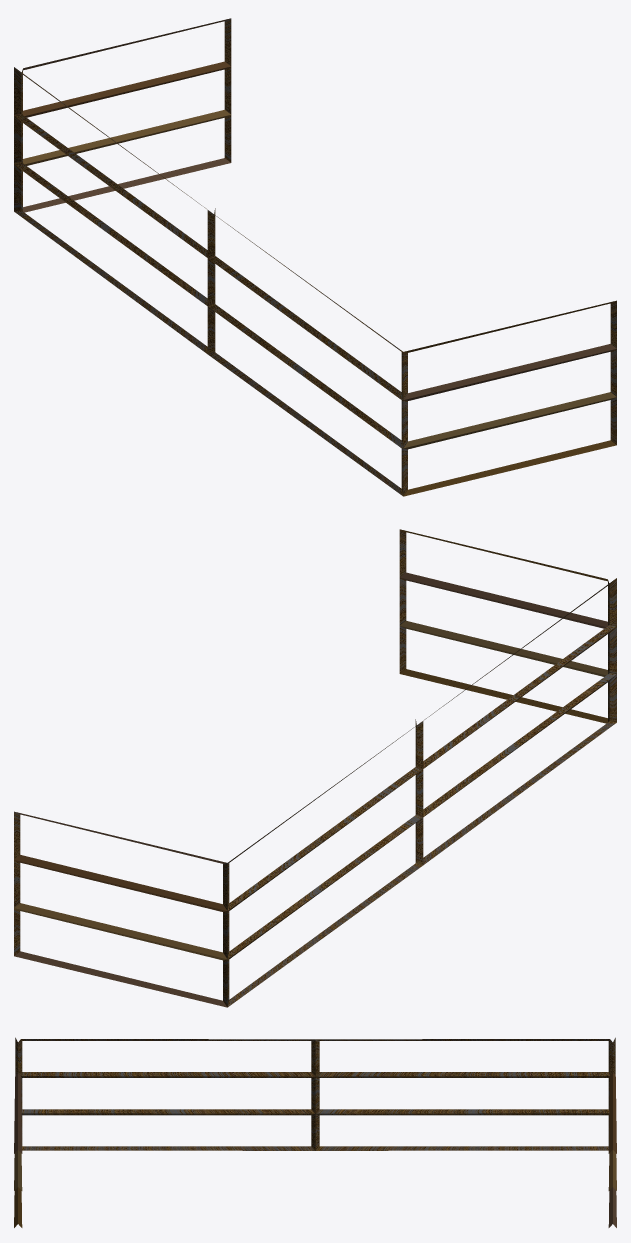
The model's file is seoul_02.gltf.
The picture shows the model from 3 angles, top to bottom: view 1: azimuth 30°, elevation 25°; view 2: azimuth 150°, elevation 25°; view 3: azimuth 270°, elevation 25°; orthographic projection. The views are drawn at different scales.
Visible parts, largest first — view 1: seoul_02; view 2: seoul_02; view 3: seoul_02.
Boxes of the visible parts, x1,y1,x2,y2 form: seoul_02: [14, 18, 616, 496]; seoul_02: [14, 529, 616, 1007]; seoul_02: [14, 1037, 616, 1227].
Bounding box in the file's own units: 4.66 × 3.02 × 14.77.
Materials: 1 (1 with a texture image).
